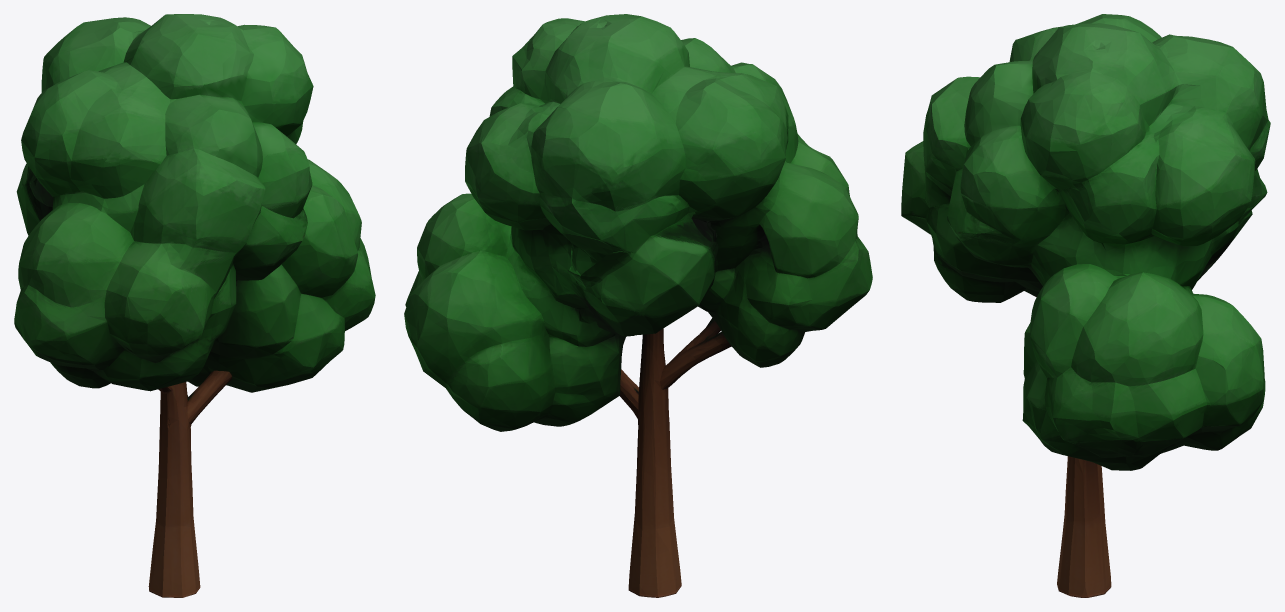
Rendered from pohon_common.glb.
3 views of the same model, side by side, from view 1: azimuth 30°, elevation 25°; view 2: azimuth 150°, elevation 25°; view 3: azimuth 270°, elevation 25° (orthographic). The views are drawn at different scales.
Parts seen in each view (by area): view 1: world; view 2: world; view 3: world.
Boxes of the visible parts, x1=… form: world: x1=14, y1=14, x2=375, y2=597; world: x1=404, y1=14, x2=872, y2=597; world: x1=901, y1=14, x2=1270, y2=597.
Bounding box in the file's own units: 5.87 × 8 × 4.71.
1 material, 1 textured.
